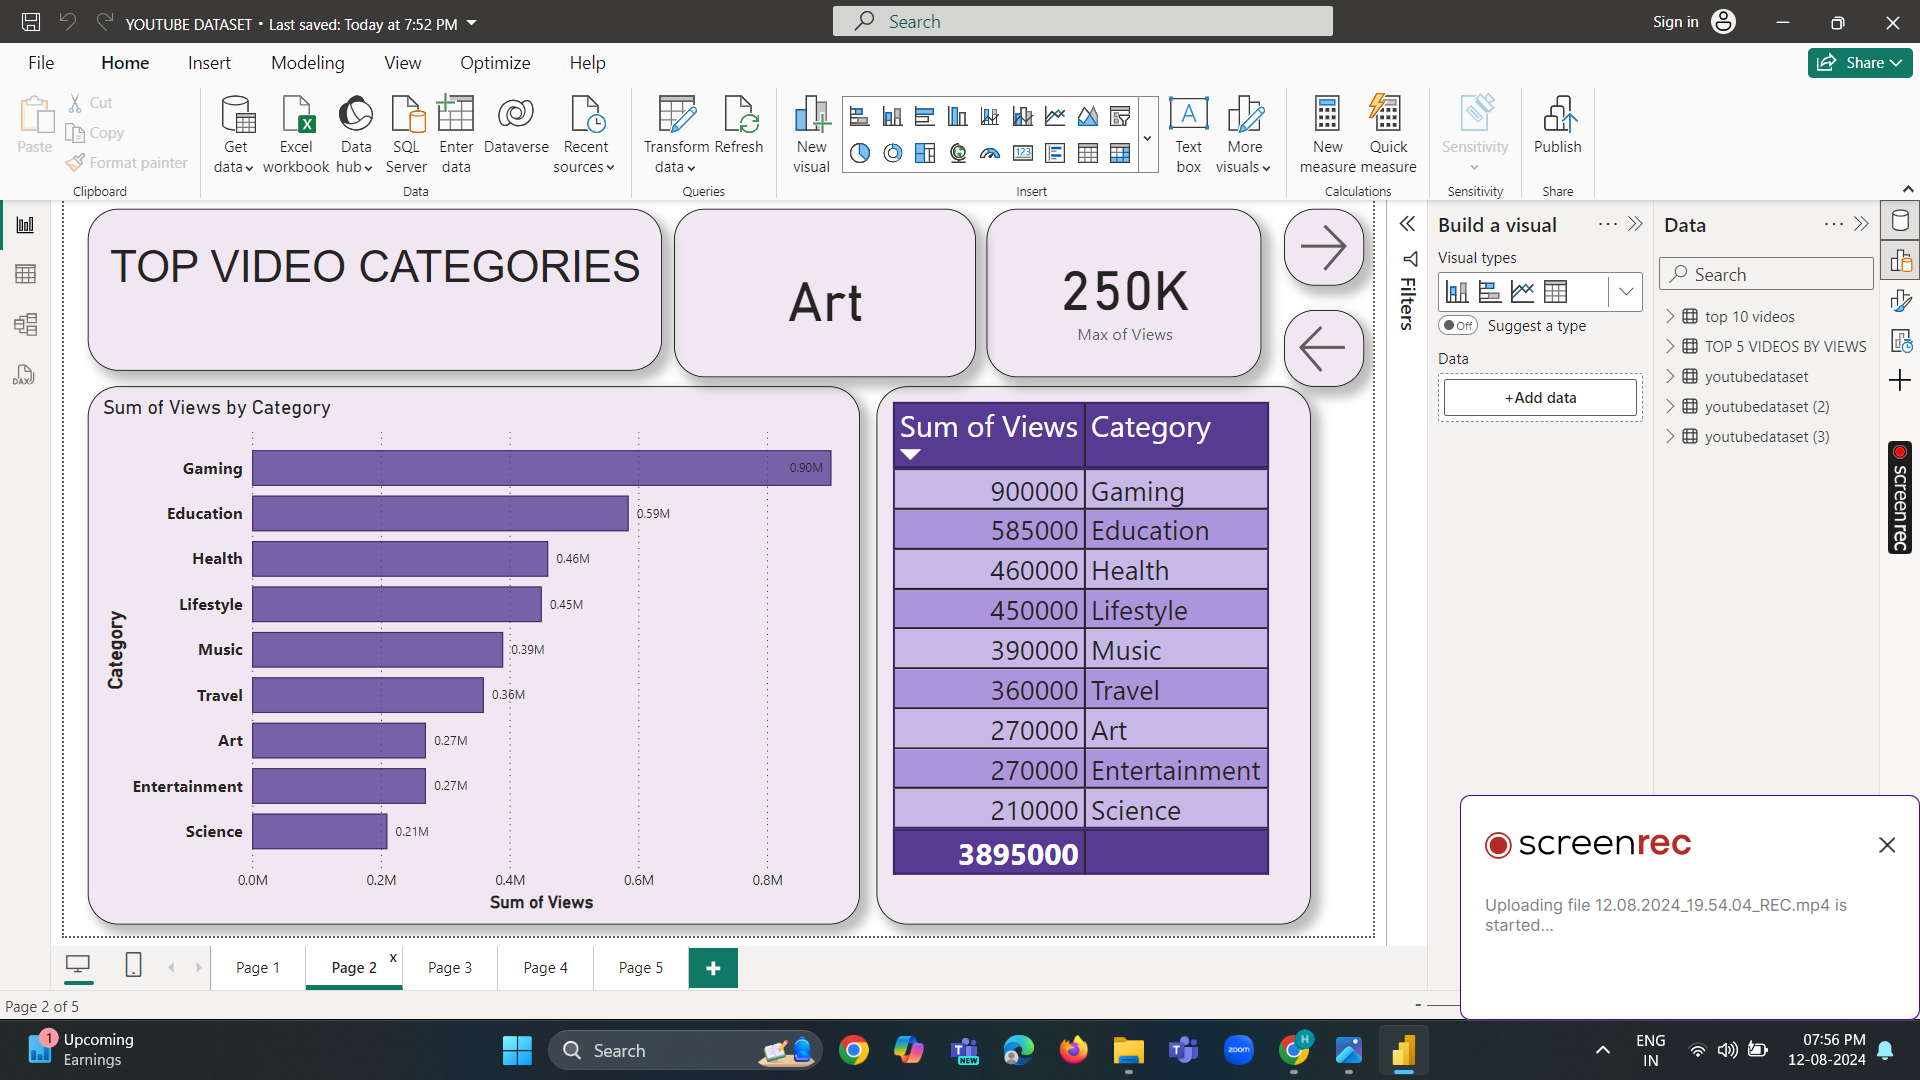

The dashboard page shown, as its layout file describes it:
{"tool":"powerbi","page":{"name":"Page 2","canvas":[1280,720],"ordinal":1},"visuals":[{"type":"barChart","fields":{"Y":["Sum(youtubedataset.Views)"],"Category":["youtubedataset.Category"]},"box":[23.8,182.5,755,526.2],"z":0},{"type":"textbox","box":[23.8,8.8,561.2,158.8],"z":1000},{"type":"tableEx","fields":{"Values":["Sum(youtubedataset.Views)","youtubedataset.Category"]},"box":[795,182.5,425,526.2],"z":2000},{"type":"actionButton","box":[1192.5,8.8,78.8,75],"z":3000},{"type":"actionButton","box":[1192.5,107.5,78.8,75],"z":4000},{"type":"card","fields":{"Values":["Max(youtubedataset.Views)"]},"box":[902.5,8.8,268.8,165],"z":5000},{"type":"card","fields":{"Values":["Min(youtubedataset.Category)"]},"box":[596.2,8.8,295,165],"z":6000}]}

Visuals, with their boxes on the page's 1280x720 design canvas (x1, y1, x2, y2). These are canvas units, not pixel positions in the 1920x1080 screenshot, which may show the page scaled, cropped or inside an application window:
barChart - Sum(youtubedataset.Views) x youtubedataset.Category: [left=24, top=182, right=779, bottom=709]
textbox: [left=24, top=9, right=585, bottom=168]
tableEx - Sum(youtubedataset.Views) x youtubedataset.Category: [left=795, top=182, right=1220, bottom=709]
actionButton: [left=1192, top=9, right=1271, bottom=84]
actionButton: [left=1192, top=108, right=1271, bottom=182]
card - Max(youtubedataset.Views): [left=902, top=9, right=1171, bottom=174]
card - Min(youtubedataset.Category): [left=596, top=9, right=891, bottom=174]
